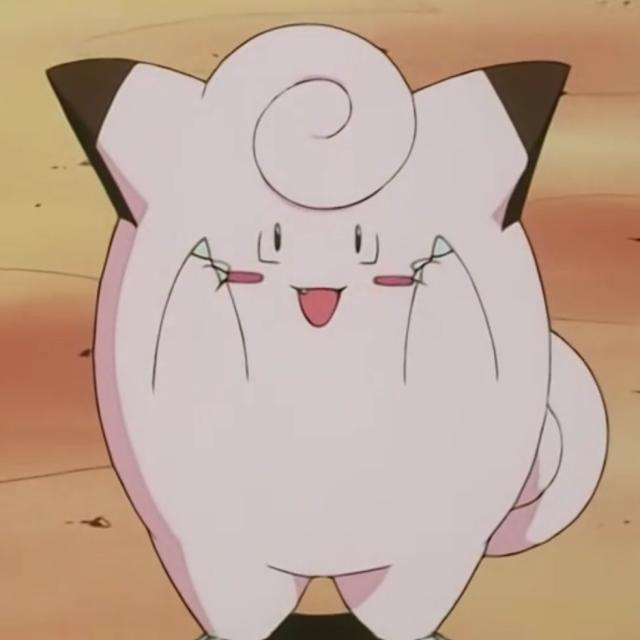Clefairy: (95, 61, 552, 640)
